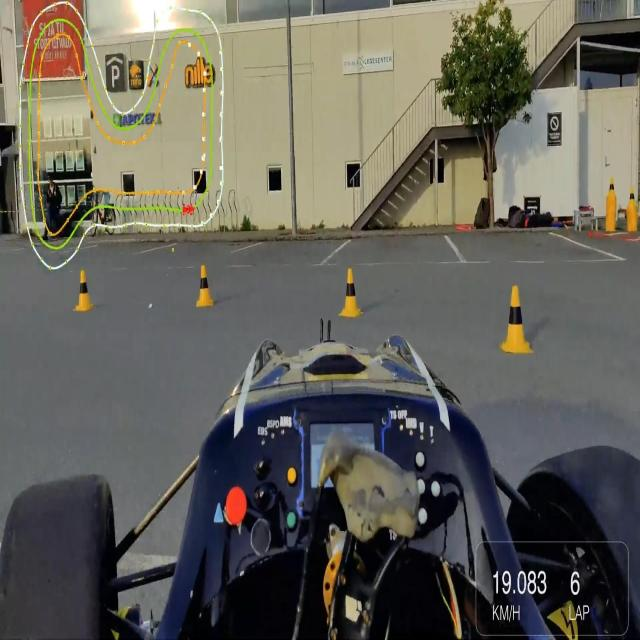yellow_cone: (500, 284, 533, 357), (339, 267, 364, 320), (195, 263, 215, 309), (74, 269, 94, 314), (626, 187, 638, 211), (607, 177, 616, 198)
